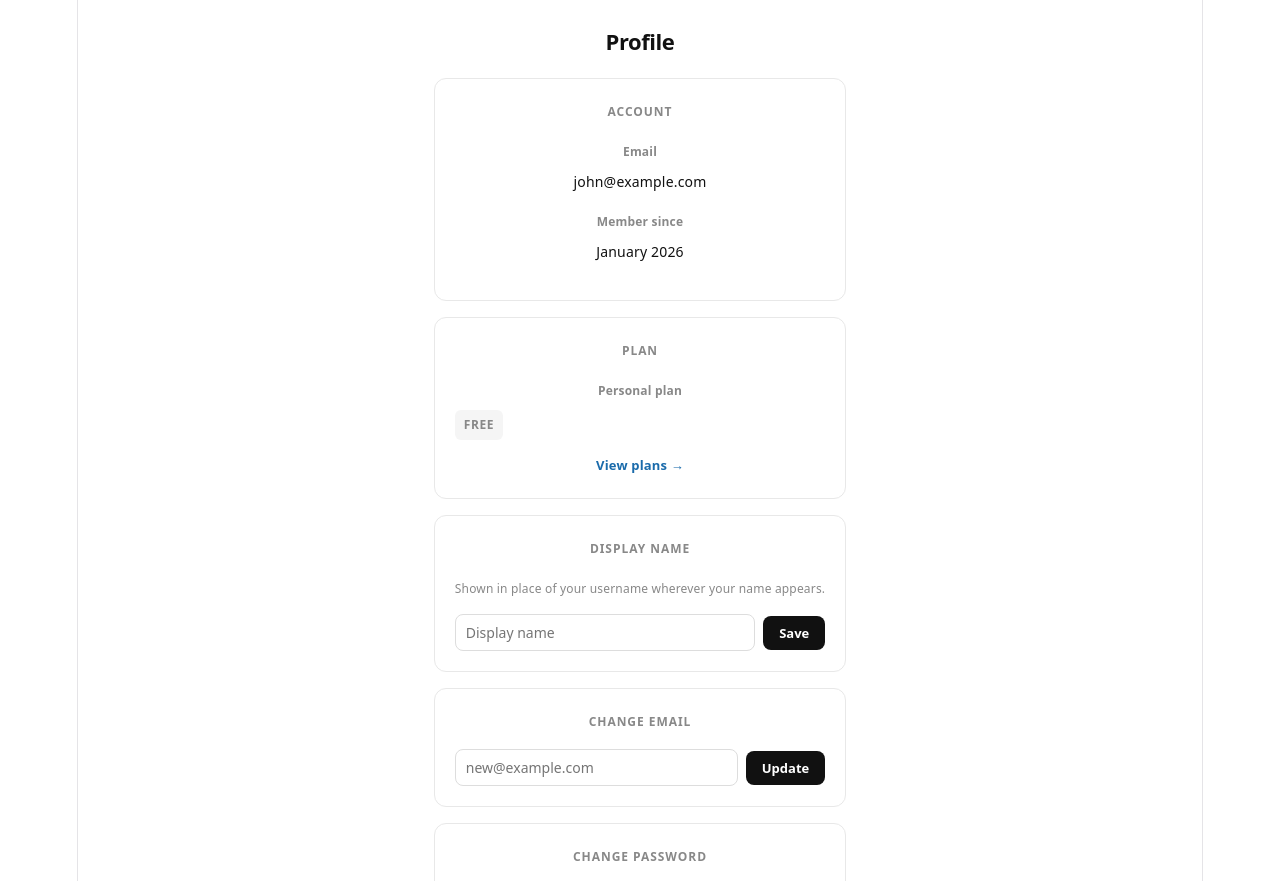
Scenario: Profile — display name › shows 'Display name saved.' after successful save
In the field with placeholder "Display name": (605, 633) [455,614,755,651], type "Test"
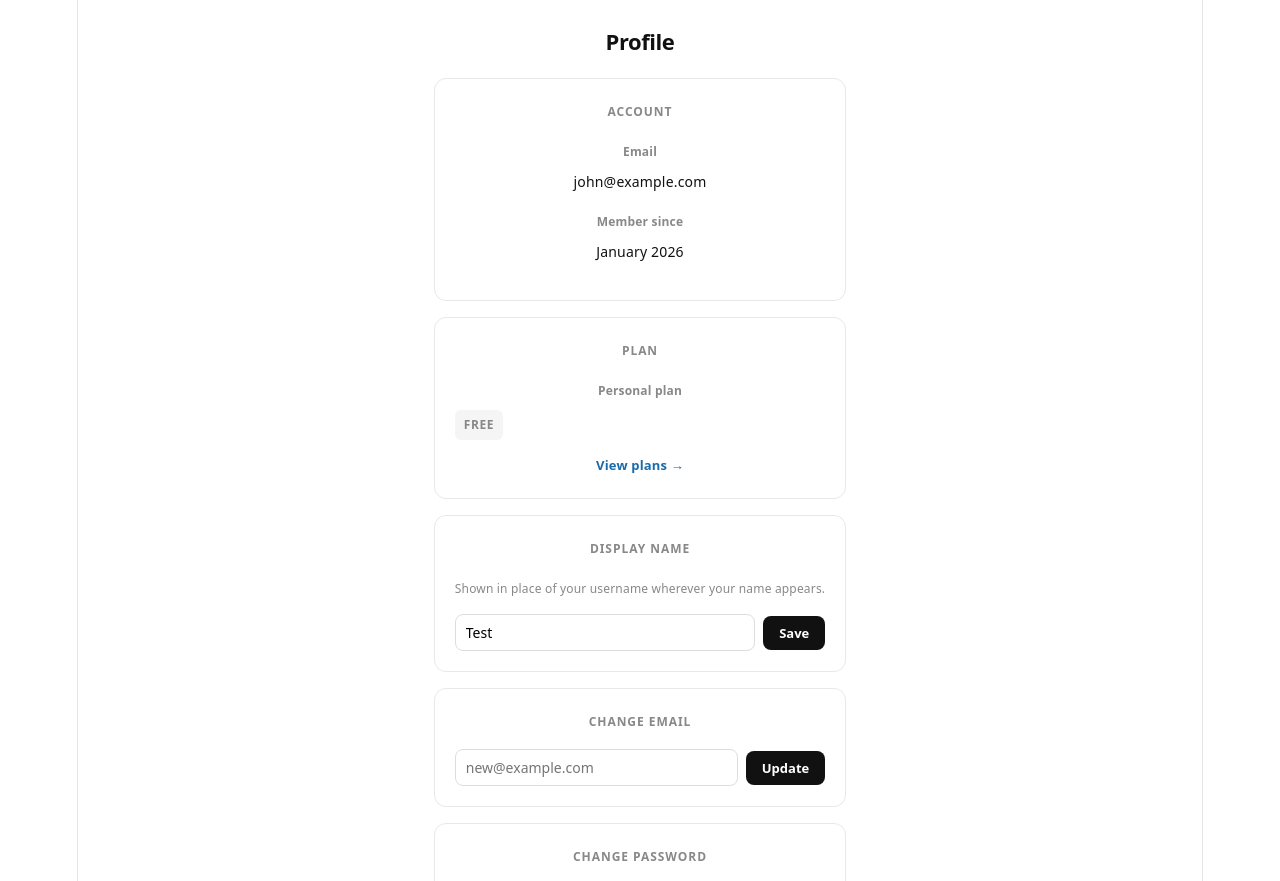
Click the button "Save": (794, 633) [763,616,825,650]
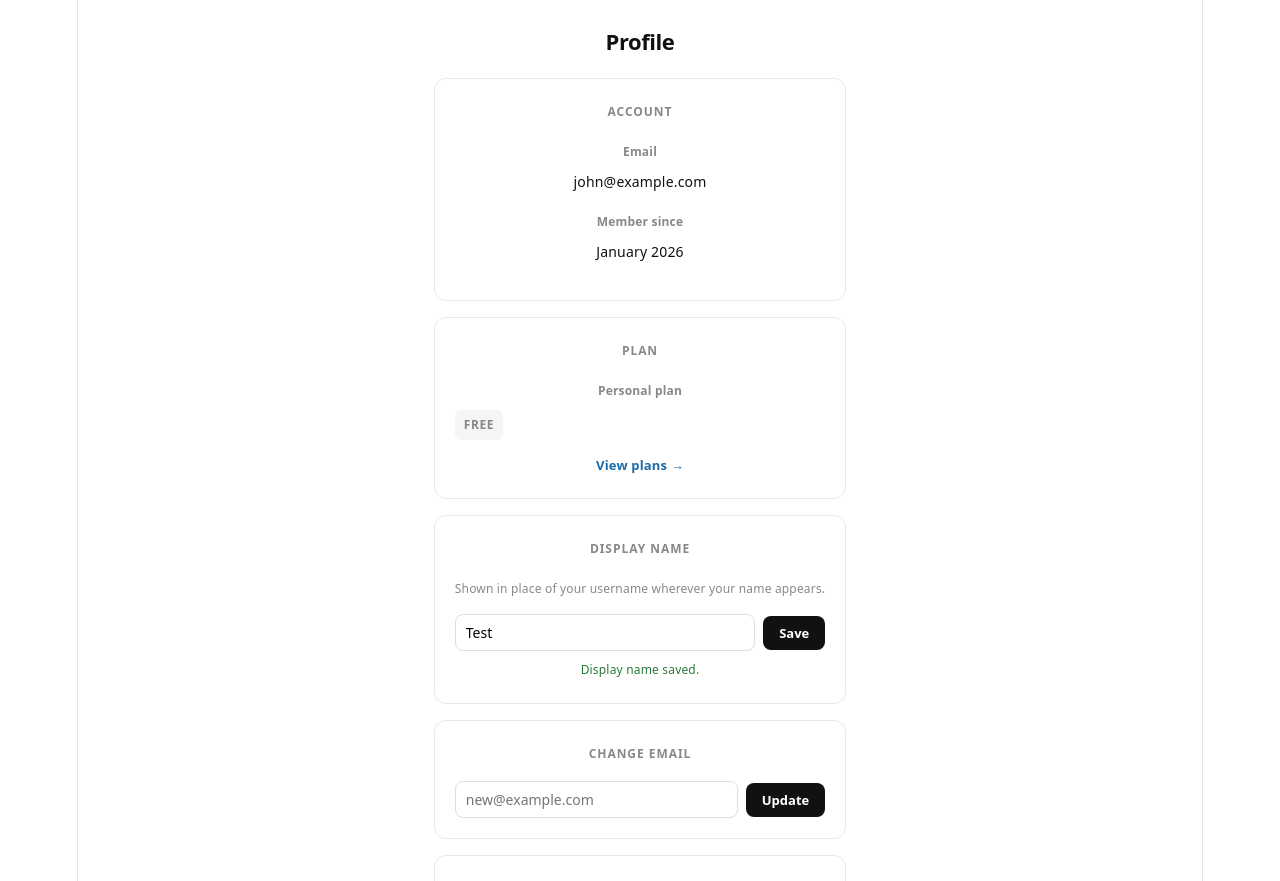
Now the text "Display name saved." is shown, box [581,661,699,678]
